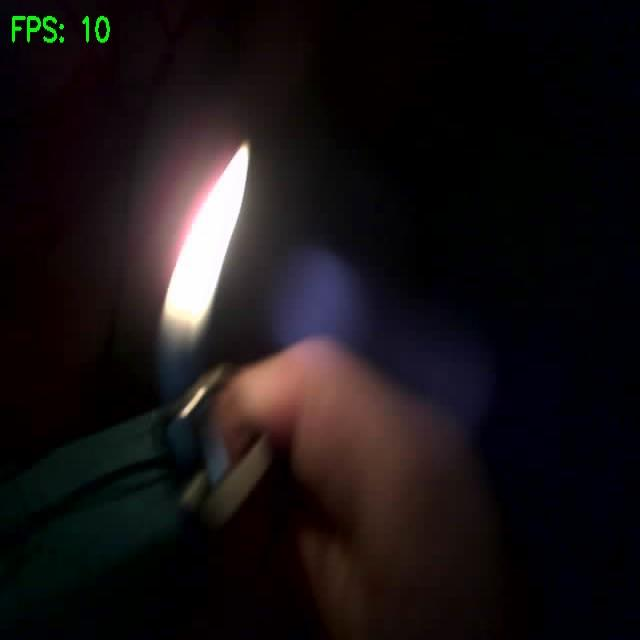fire: (162, 144, 248, 338)
